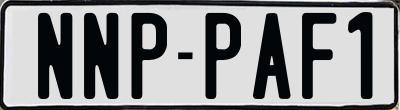1: (345, 12, 371, 105)
A: (253, 10, 297, 97)
F: (299, 12, 335, 100)
N: (81, 12, 118, 104), (38, 11, 76, 100)
P: (131, 12, 172, 104), (203, 10, 239, 100)
